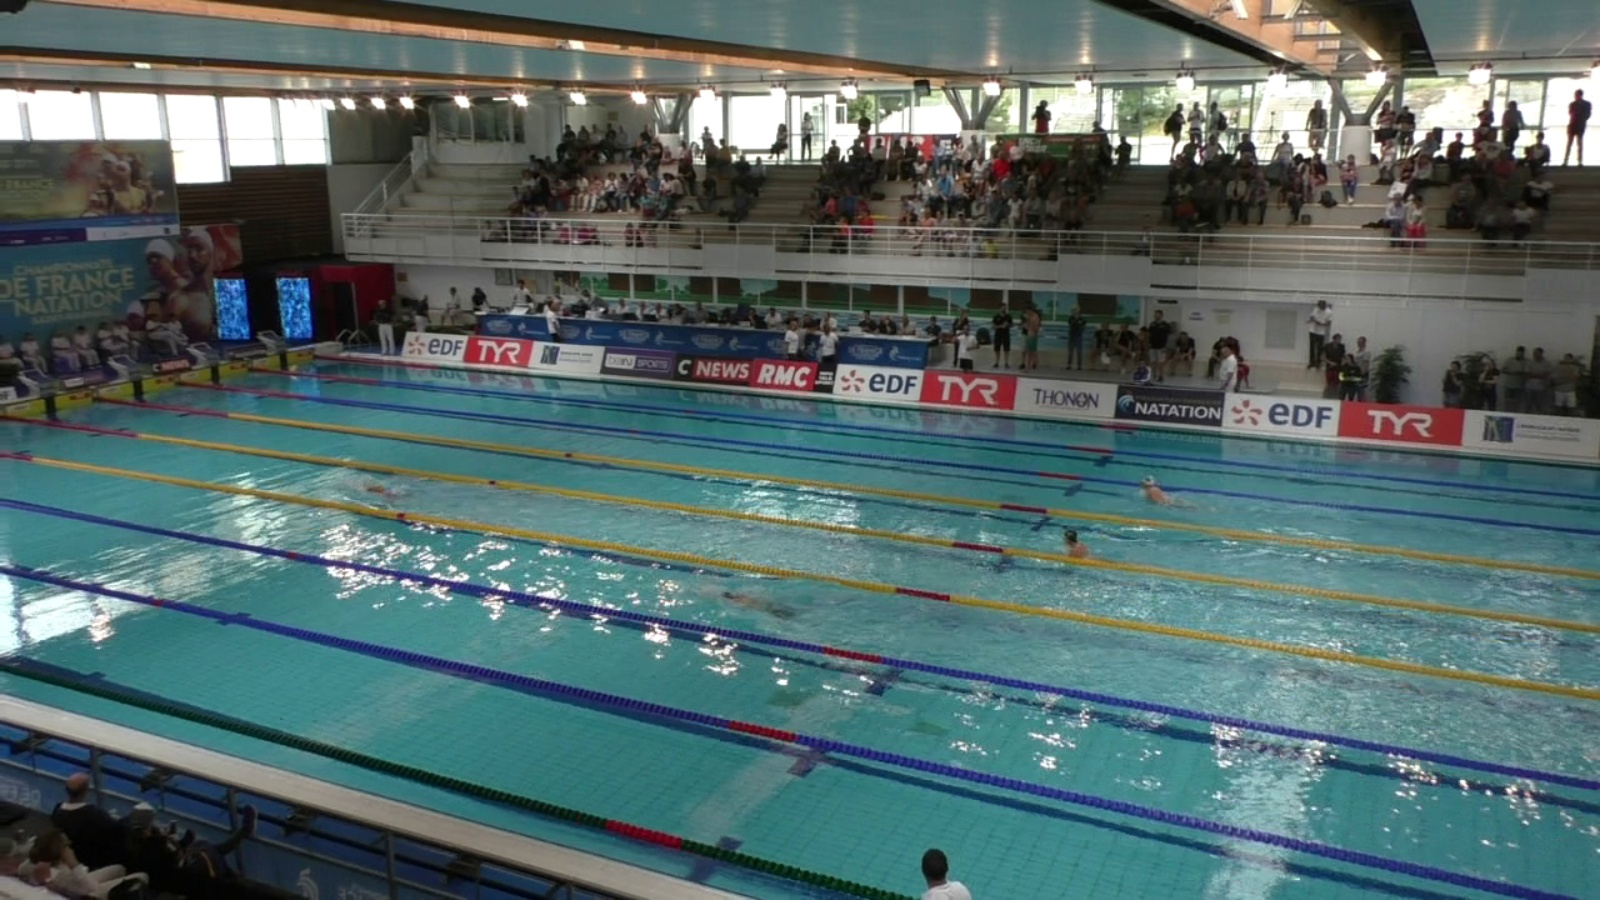swimmerw: (709, 588, 809, 627), (1137, 473, 1211, 509), (343, 477, 421, 511), (1062, 521, 1111, 569)
